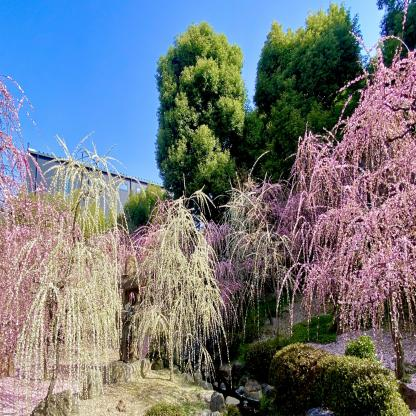Ume: (261, 0, 416, 367), (0, 72, 136, 415), (132, 146, 288, 390)
